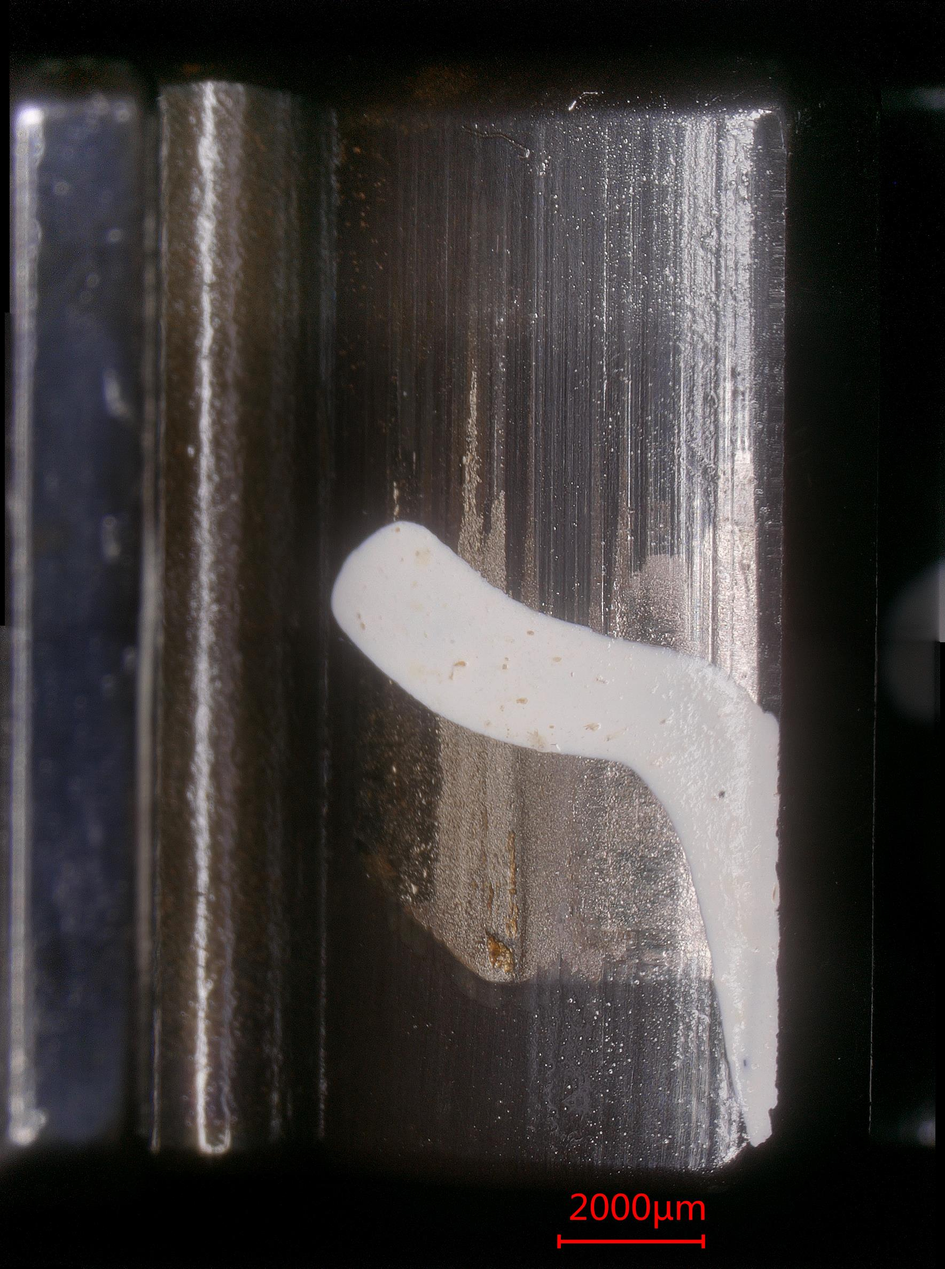Abrasion: (224, 112, 774, 1169)
